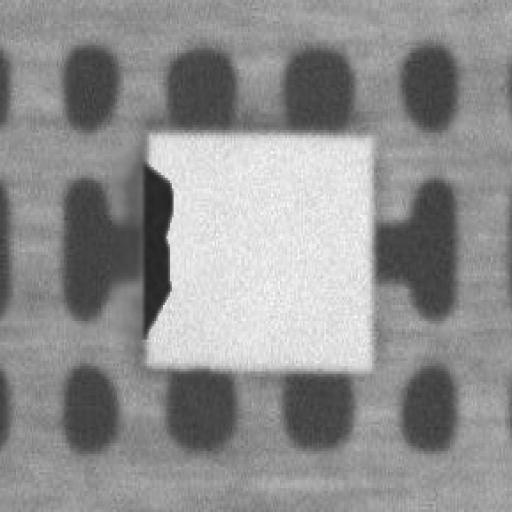DIE_BROKEN: (136, 154, 170, 334)
